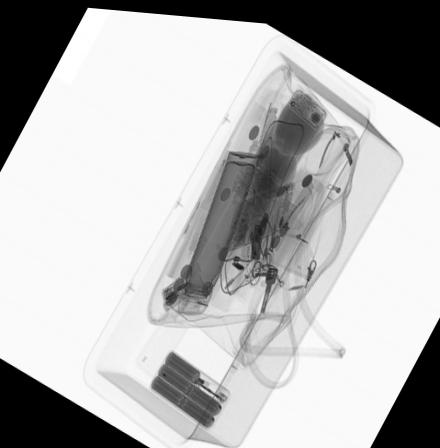Powerbank: (141, 342, 230, 433)
